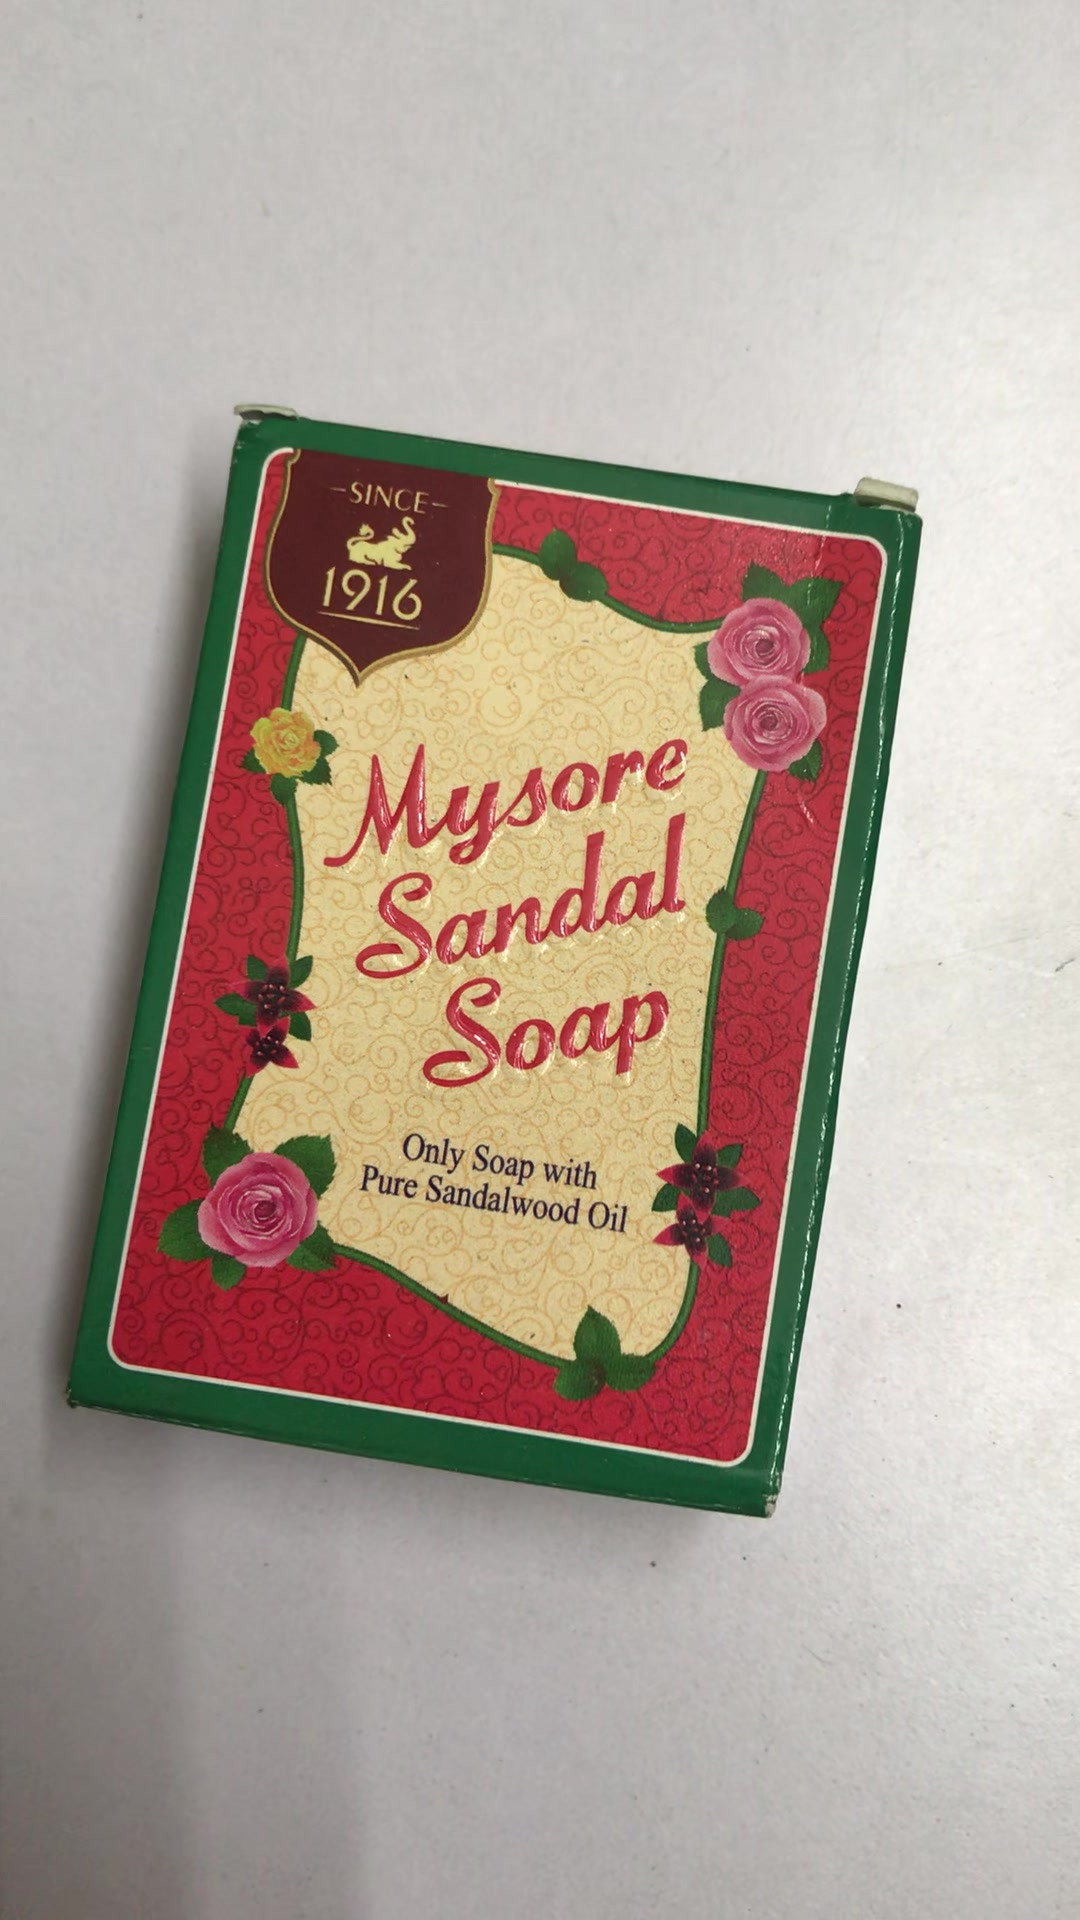mysore sandal soap: (69, 415, 924, 1520)
